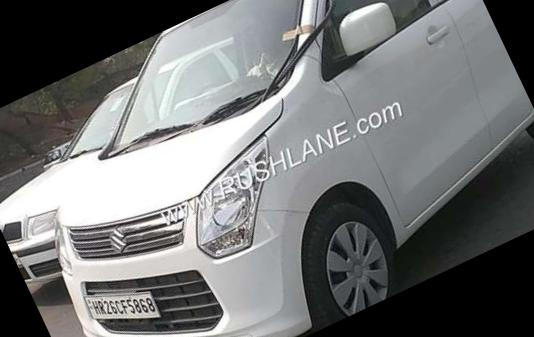plate: (77, 262, 169, 337)
